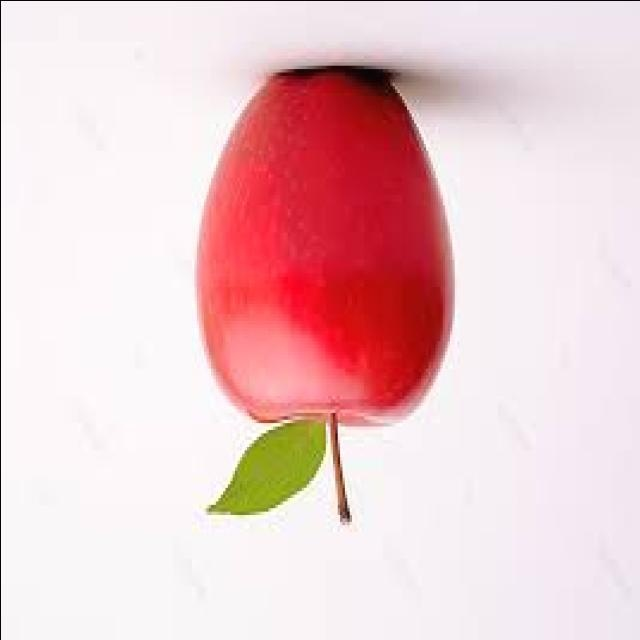agrume: (191, 38, 465, 489)
